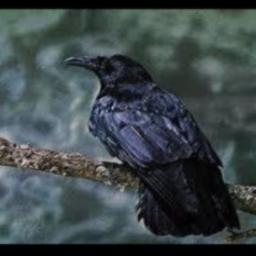Crow: (64, 53, 241, 238)
